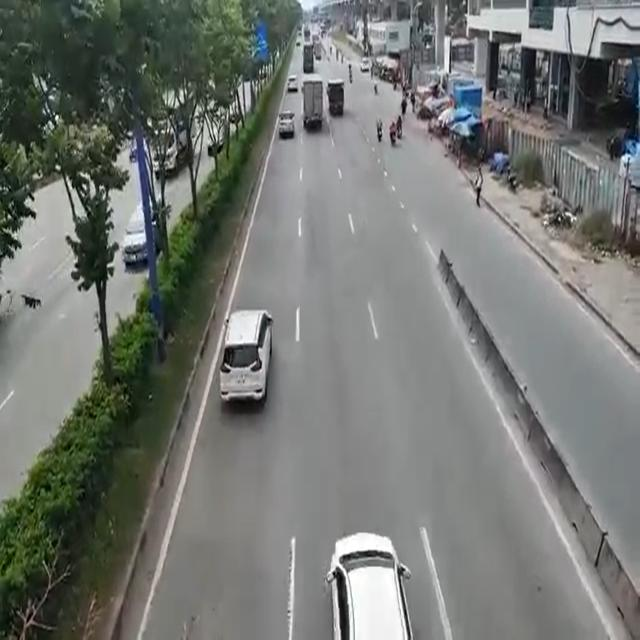car: (329, 534, 407, 640), (220, 307, 264, 407), (277, 106, 296, 134)
truck: (302, 80, 324, 136), (329, 76, 343, 114)
